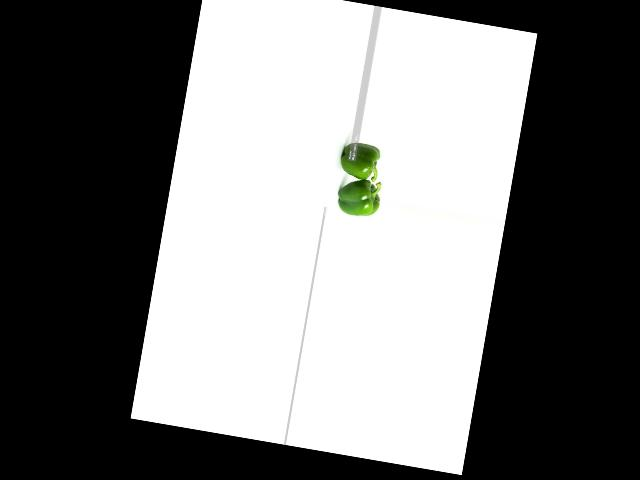bell_pepper: (329, 175, 385, 219)
